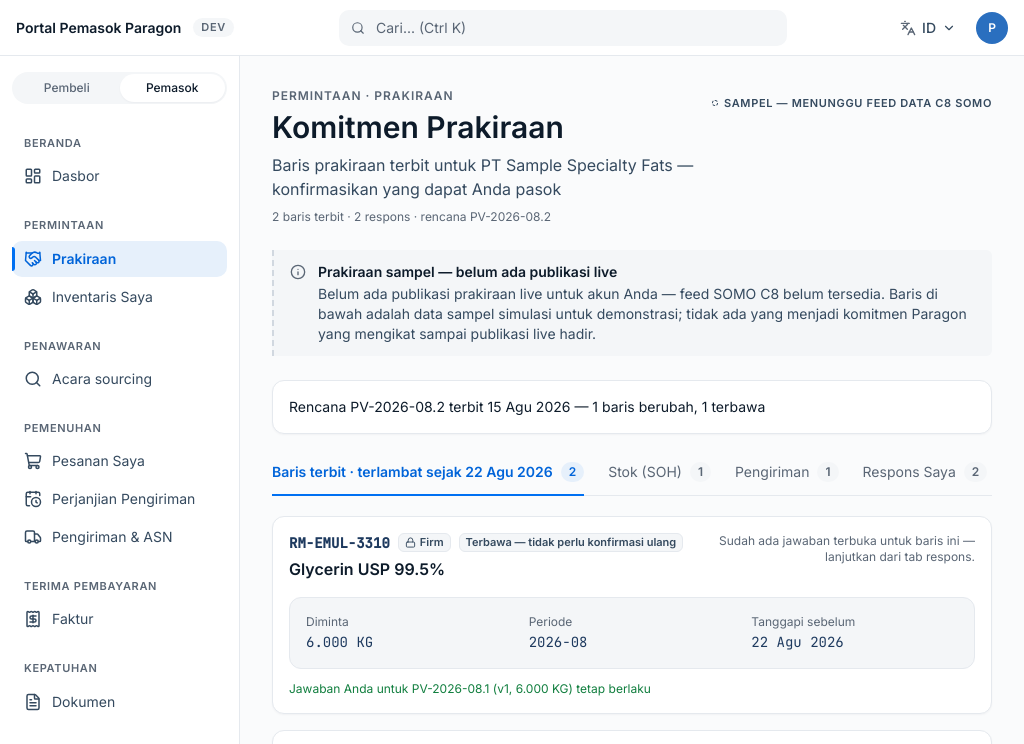
Scenario: R1a — ID from birth (not an EN string with a key around it) › renders the Indonesian actor line for the supplier's own turn, and for done
Step 1. Click the text "Respons Saya" → click(909, 472), box [863,462,956,482]
(page scrolled)
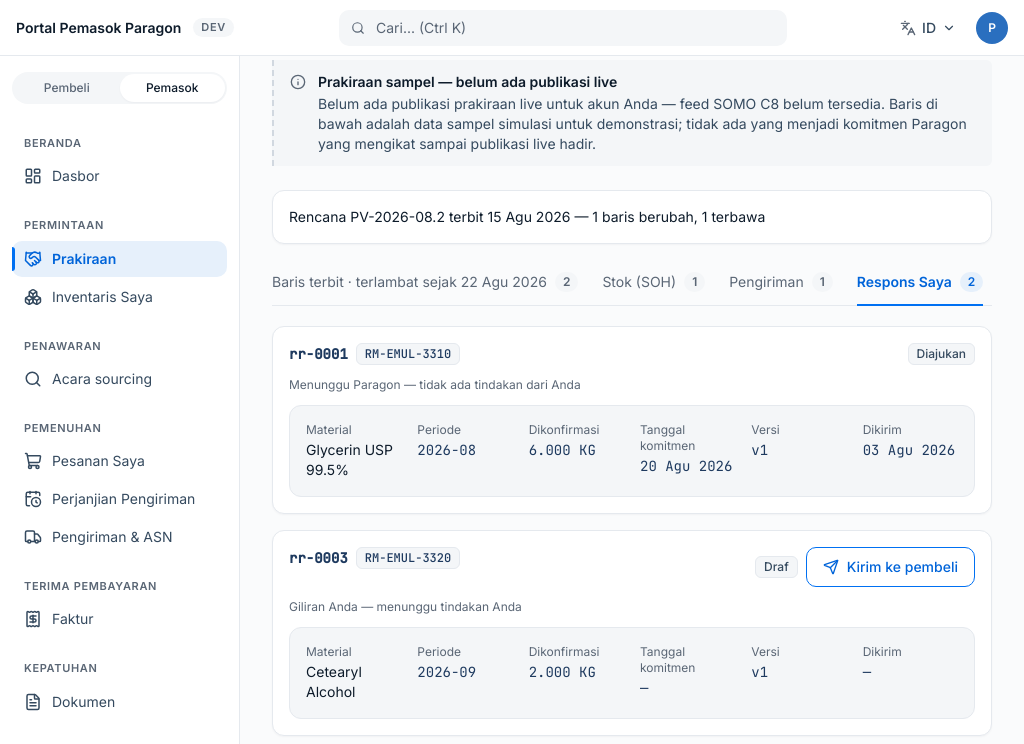
expect the text with test id "sdcsup-response-actor" reads "Giliran Anda — menunggu tindakan Anda": met, box [289,599,522,614]
